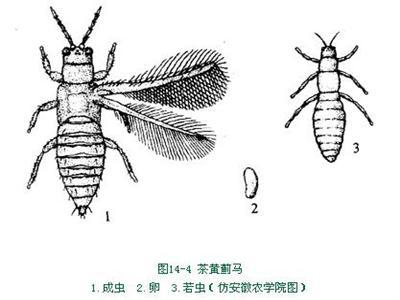Thripidae: (28, 6, 234, 219)
